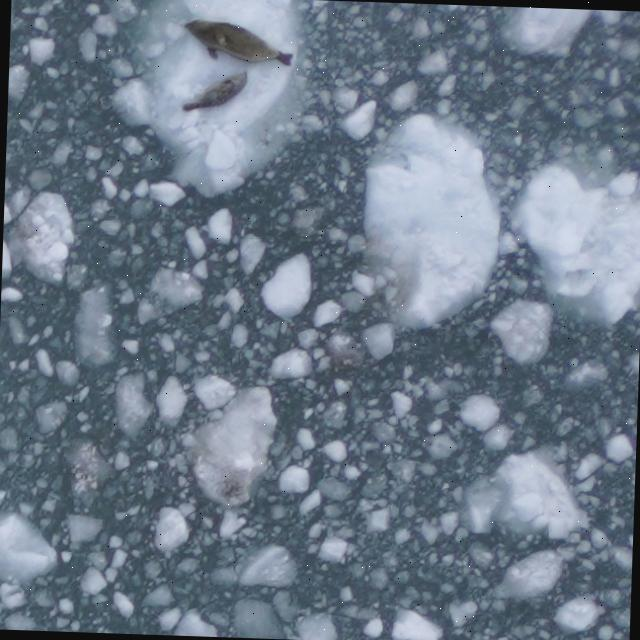seal: (177, 15, 297, 69), (177, 65, 251, 117)
